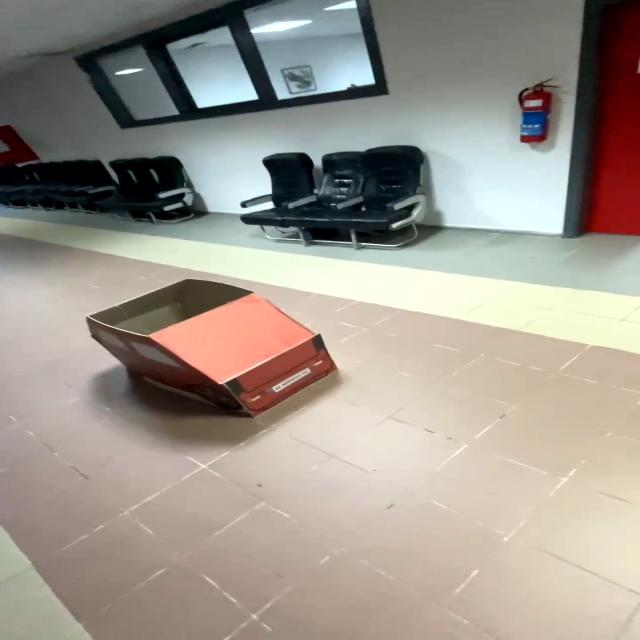red_car: (59, 276, 384, 430)
